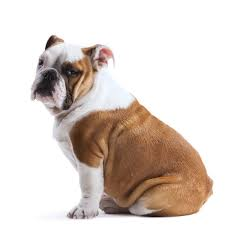Bulldog: (18, 22, 223, 222)
